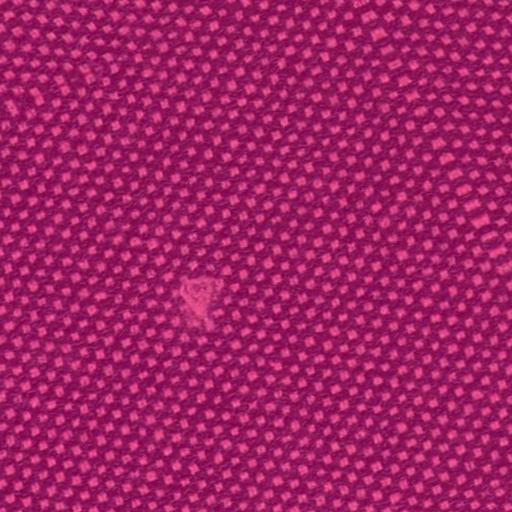knot: (170, 269, 229, 338)
